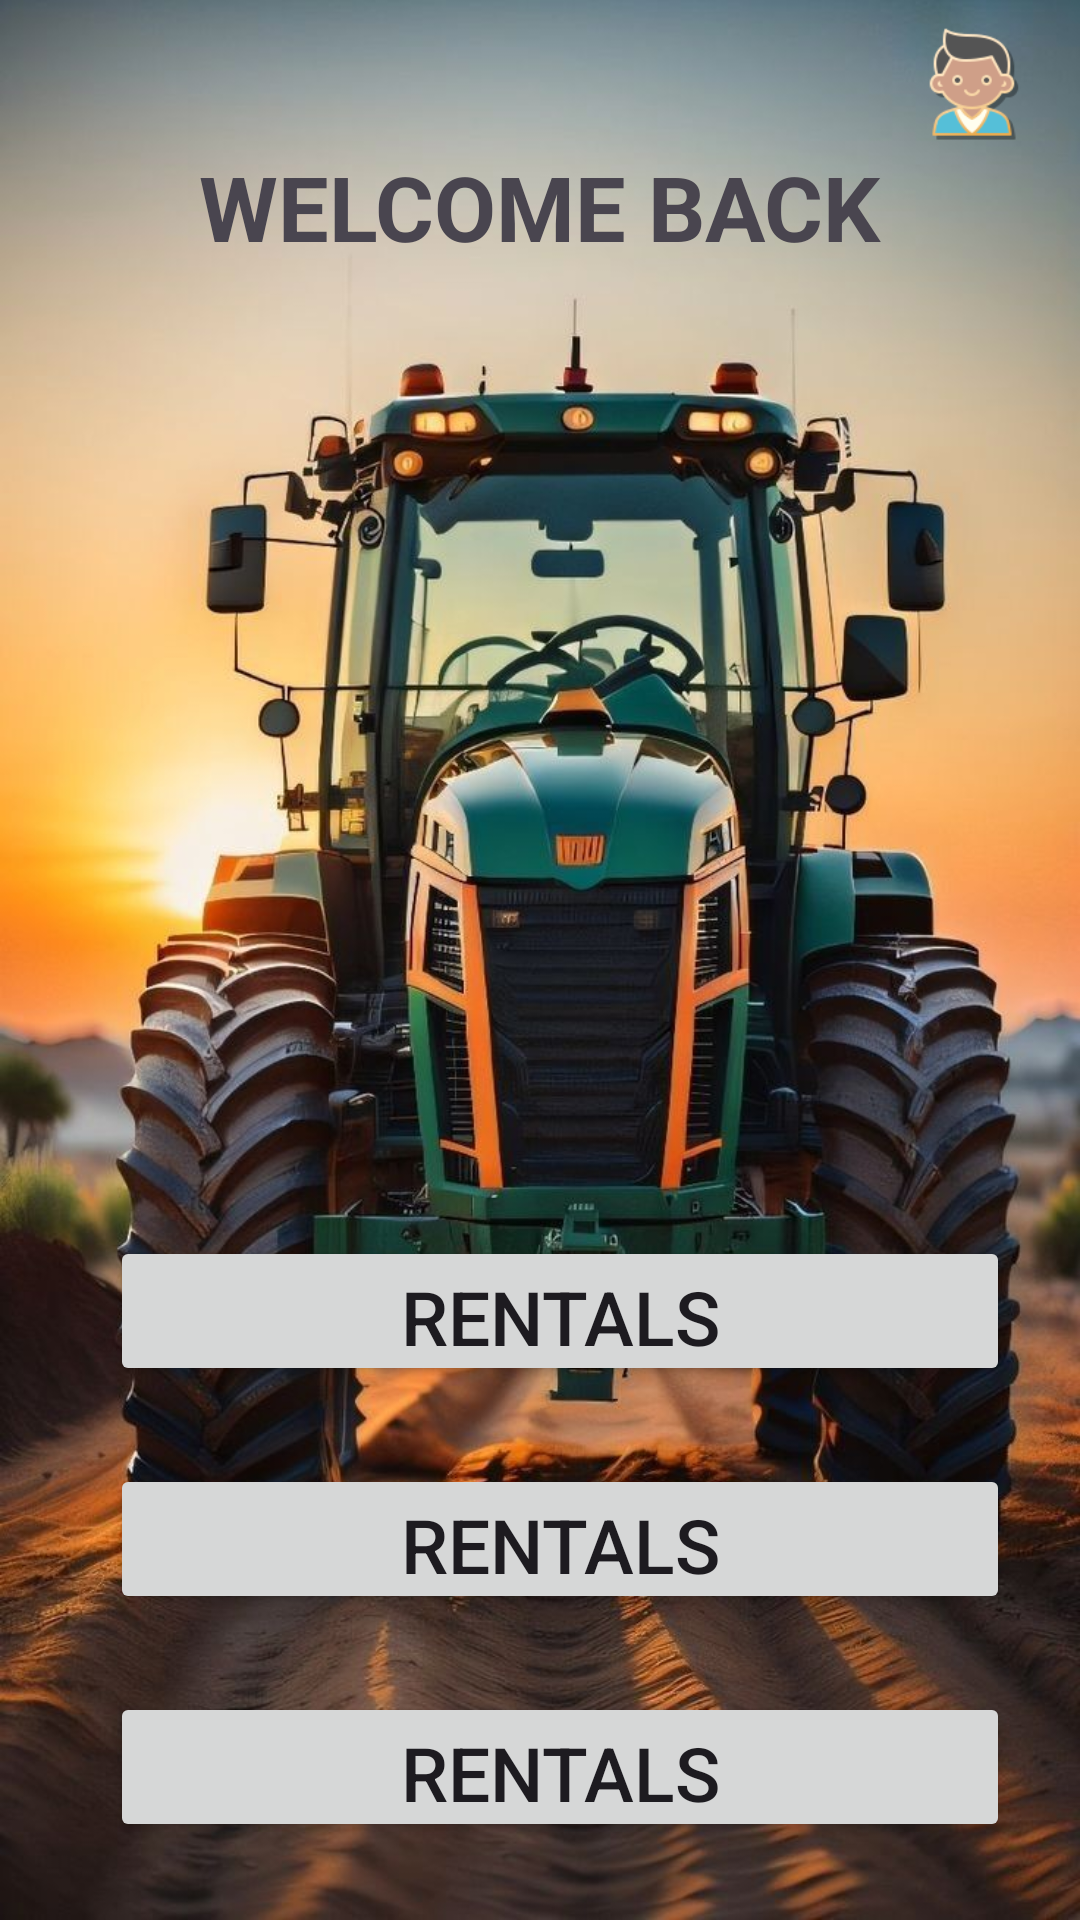

Where to tap for icons on this 1080px x 1920px app screen, as [x,y]:
usr: [972,85]
